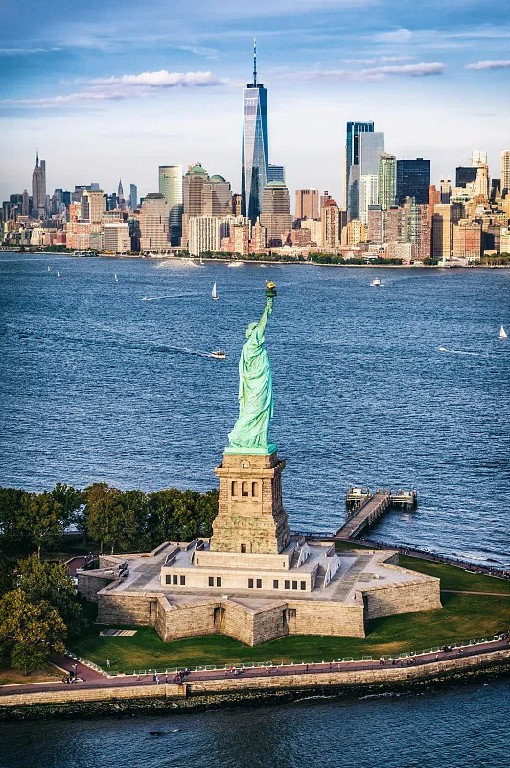SL: (210, 279, 290, 556)
